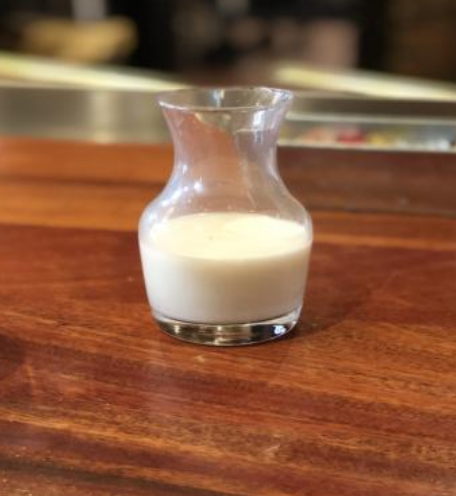produk_susu: (138, 72, 312, 353)
